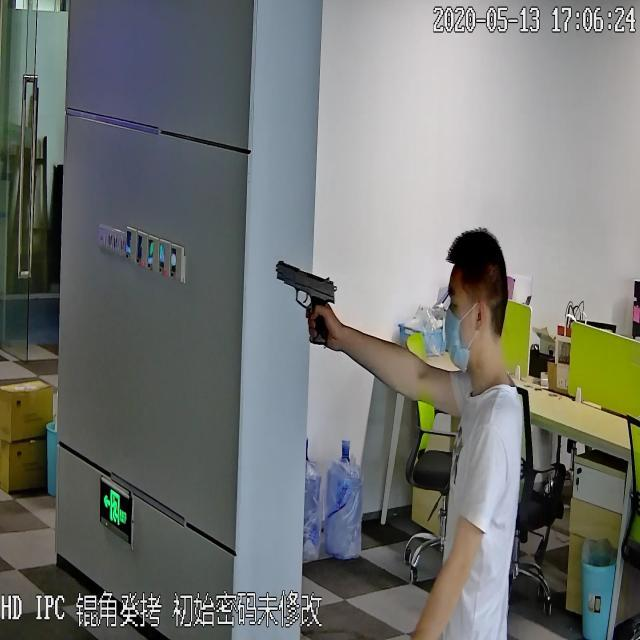gun: (273, 243, 340, 348)
